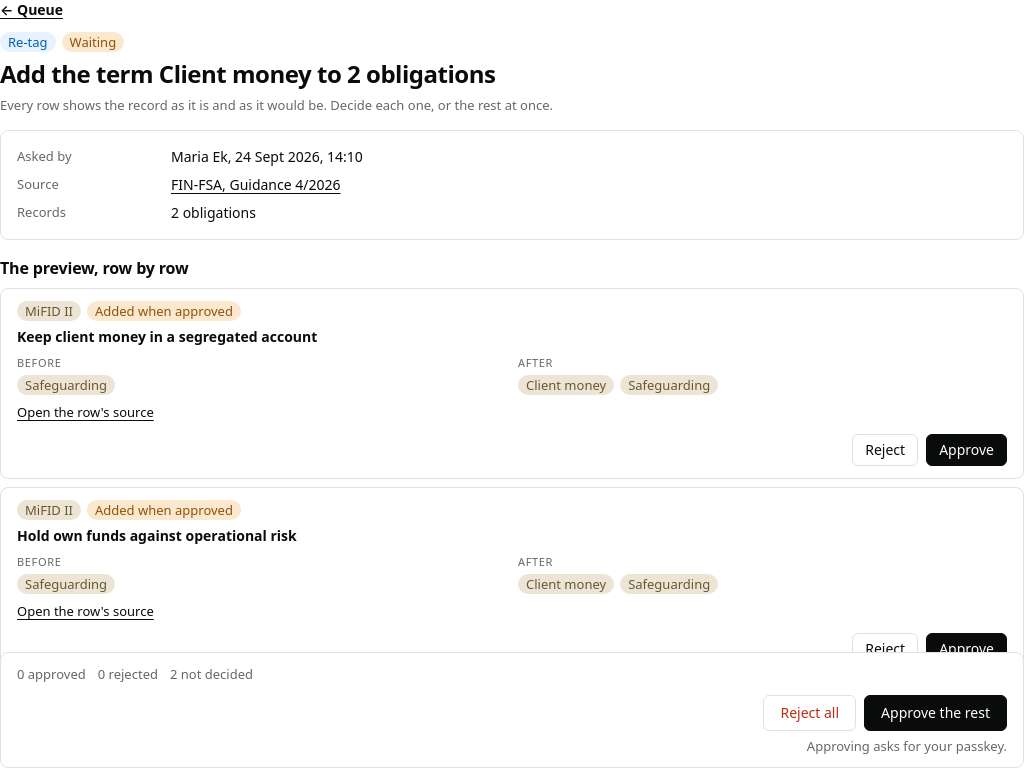
Scenario: the batch review › rejects every row with one reason from the list, and changes nothing without one
Check: the heading "Add the term Client money to 2 obligations" is shown, box [0,57,495,90]
Click the button "Reject all" at (810, 713), box [764,695,856,731]
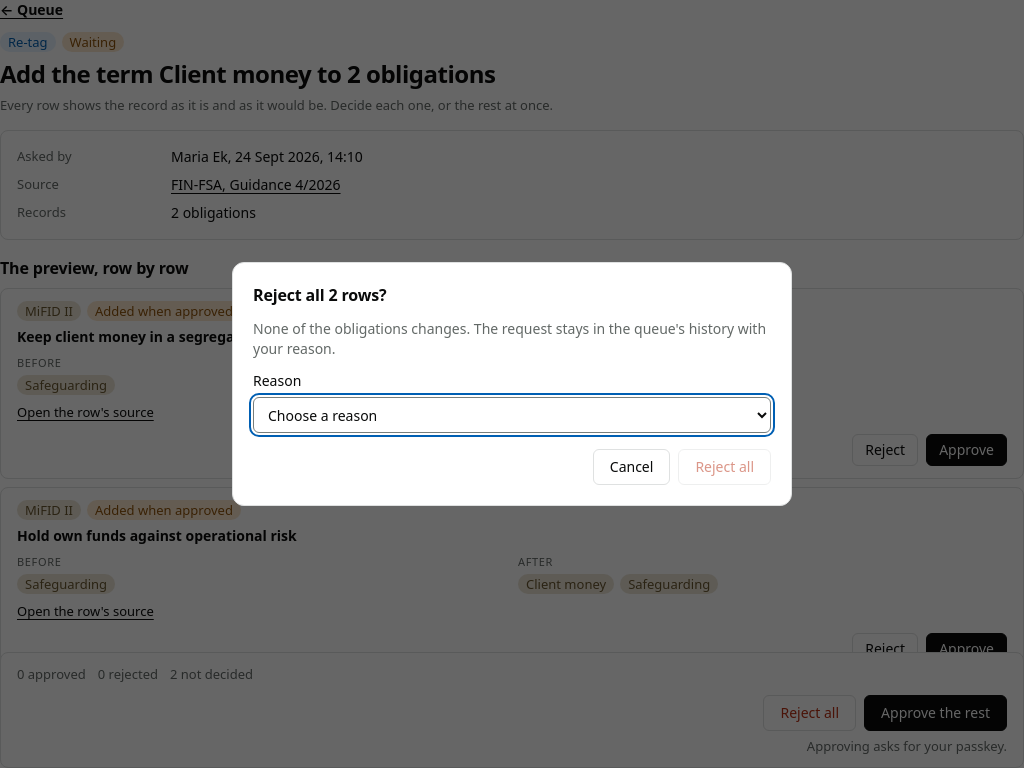
Check: the button "Reject all" is disabled, box [678,449,771,485]
Select "Bad source" in the dropdown labelled "Reason" at (512, 415), box [253,397,771,433]
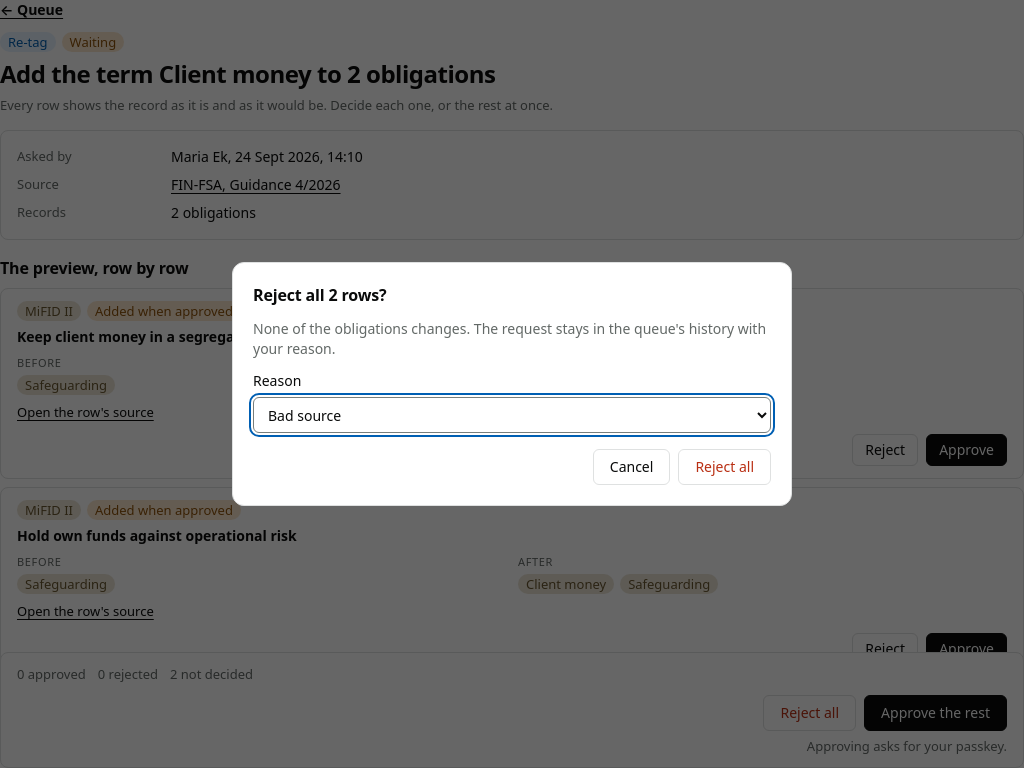
Click the button "Reject all" at (725, 467), box [678,449,771,485]
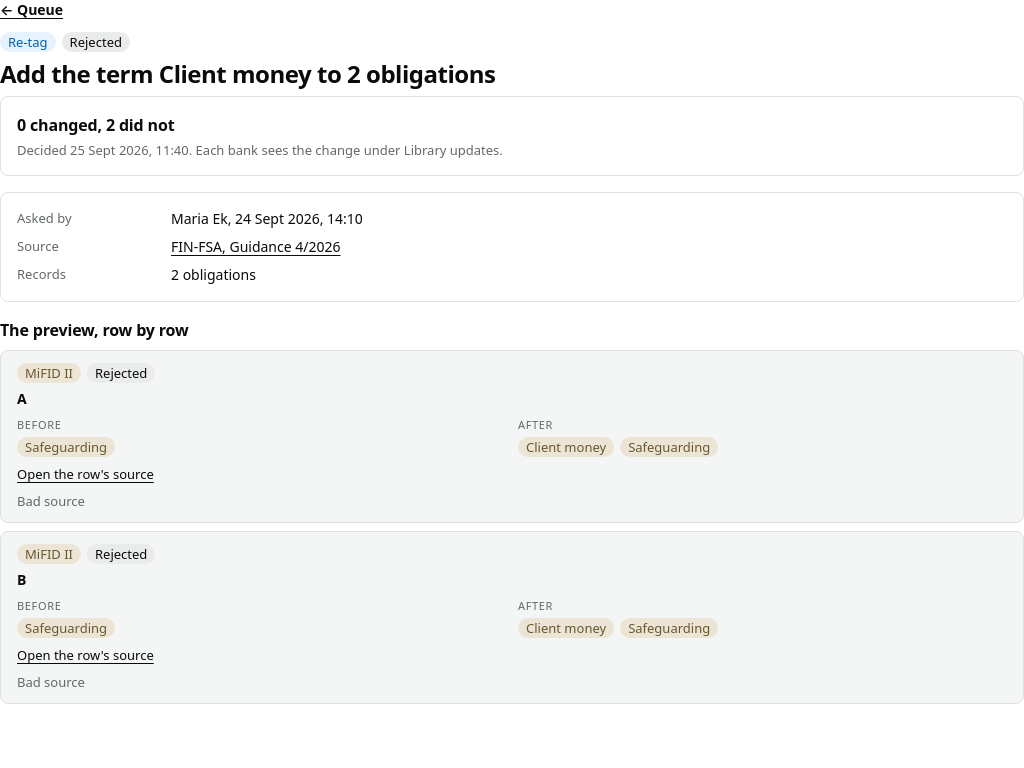
Check: the heading "0 changed, 2 did not" is shown, box [17,114,174,136]
